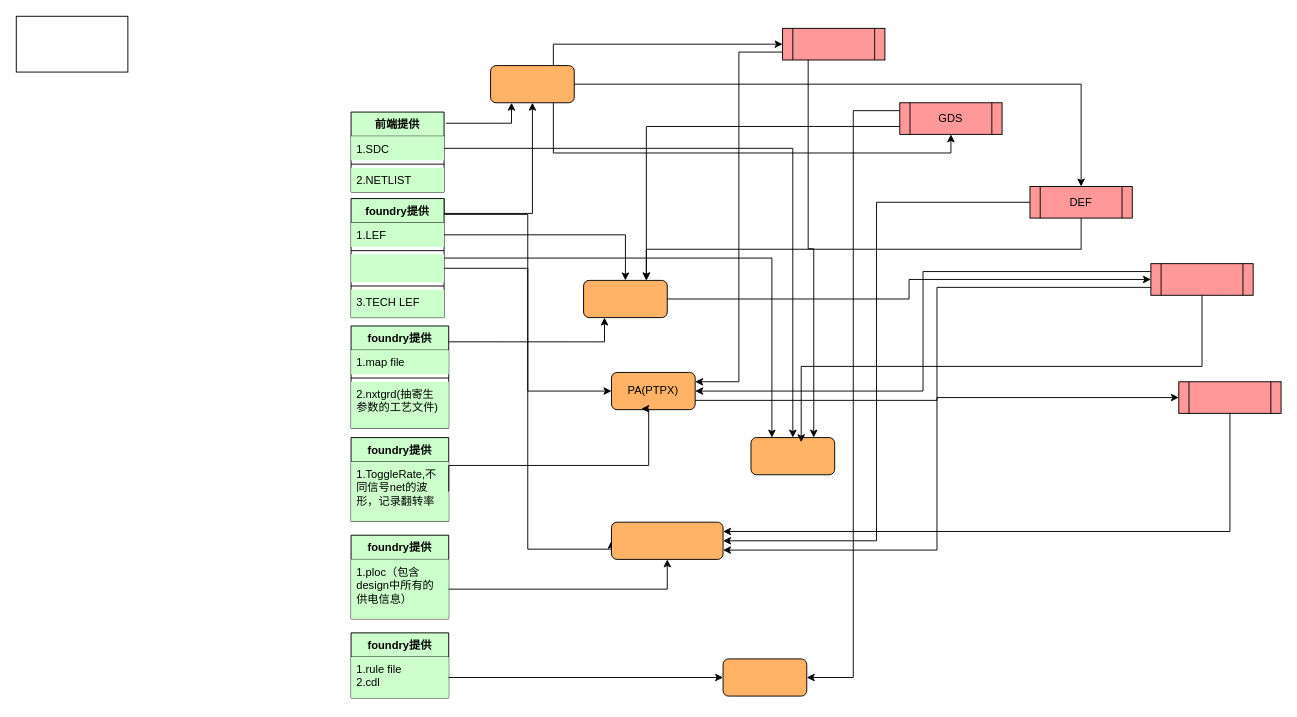
Some shapes in this 1297 by 717 pixel diagram are drawn without their labels. Each missing label, with the box of its shape:
2.LIB: (351, 254, 444, 282)
innovus: (490, 65, 574, 103)
ipf(记录Instace实际电压): (1178, 381, 1281, 413)
IR(redhawk)/static: (611, 521, 723, 559)
PV: (722, 658, 807, 696)
SPEF: (1150, 263, 1253, 295)
SPICE NETLIST: (782, 27, 885, 60)
STA(PT): (750, 437, 835, 475)
starrc: (583, 279, 667, 318)
